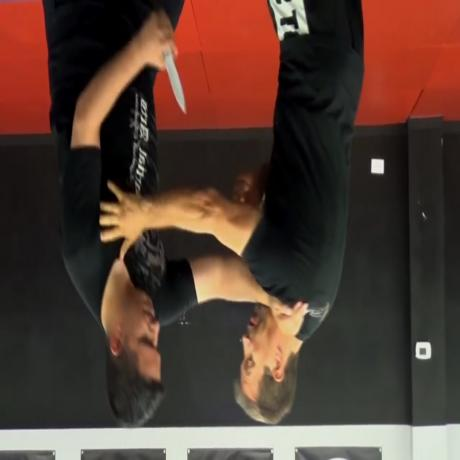1: (214, 0, 368, 419), (48, 3, 192, 422)
weapon: (163, 52, 187, 116)
